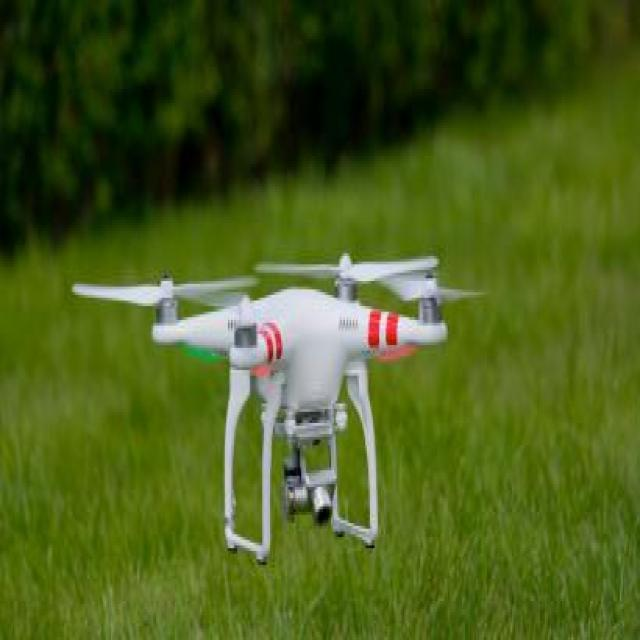drone: (98, 222, 515, 490)
